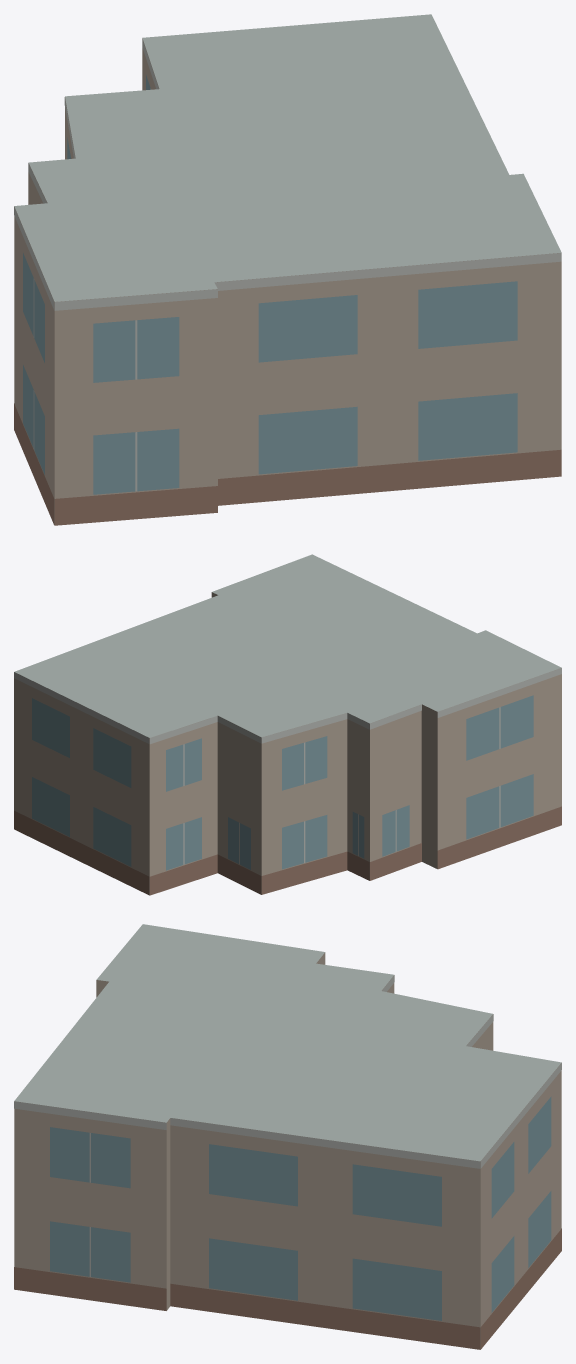
The model's file is survey-upis-32774508.glb.
3 renders of one model, top to bottom at view 1: azimuth 30°, elevation 25°; view 2: azimuth 150°, elevation 25°; view 3: azimuth 270°, elevation 25°, orthographic. The views are drawn at different scales.
Visible parts, largest first — view 1: survey-upis-32774508.tmp; view 2: survey-upis-32774508.tmp; view 3: survey-upis-32774508.tmp.
Boxes of the visible parts, x1,y1,x2,y2 form: survey-upis-32774508.tmp: (14,14,561,525); survey-upis-32774508.tmp: (14,554,561,895); survey-upis-32774508.tmp: (14,924,561,1349).
Bounding box in the file's own units: 16.49 × 6.1 × 16.08.
